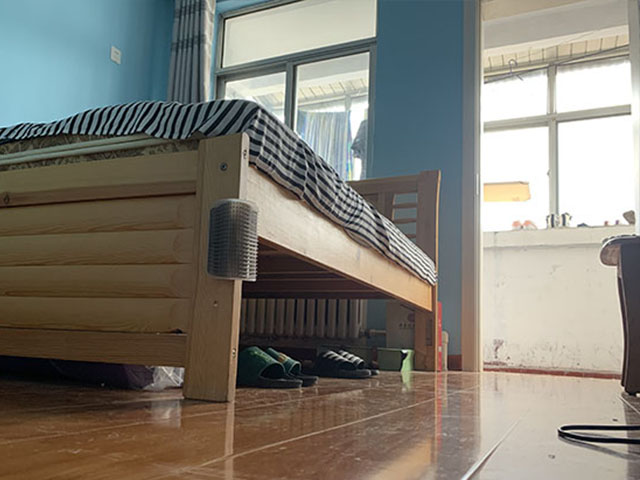bed: (1, 97, 442, 403)
slippers: (236, 345, 299, 386), (296, 347, 370, 379)
wire: (557, 422, 640, 445)
